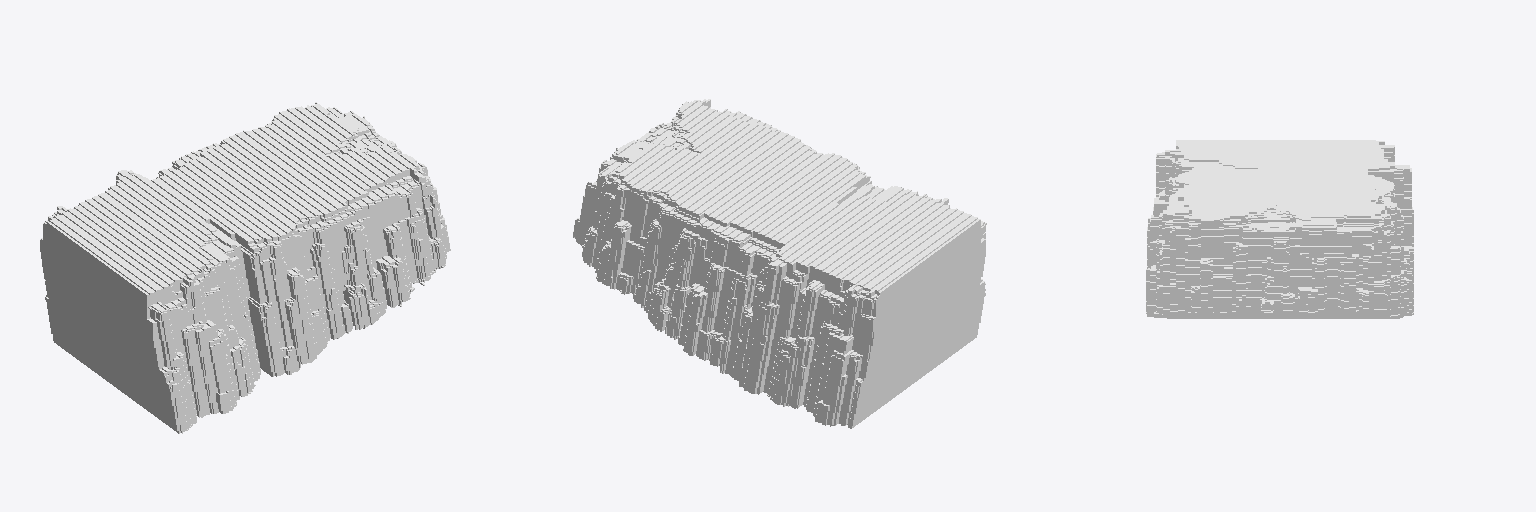
File: forest1.1-160.obj
3 views of the same model, side by side, from view 1: azimuth 30°, elevation 25°; view 2: azimuth 150°, elevation 25°; view 3: azimuth 270°, elevation 25° (orthographic).
Parts seen in each view (by area): view 1: object 1; view 2: object 1; view 3: object 1.
Boxes of the visible parts, <box> form: object 1: <box>40,102,450,433</box>; object 1: <box>573,99,986,428</box>; object 1: <box>1146,140,1413,318</box>.
Bounding box in the file's own units: 25.4 × 14.3 × 18.4.